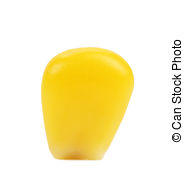corn: (40, 48, 136, 161)
